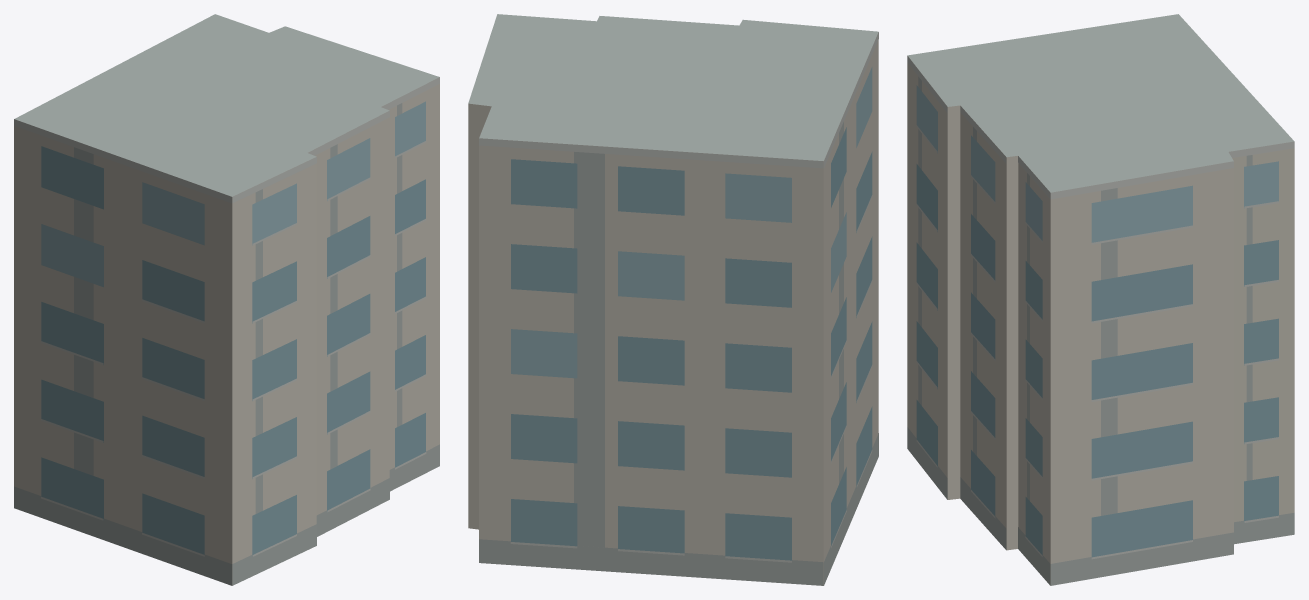
File: survey-upis-32852986.glb
3 views of the same model, side by side, from view 1: azimuth 30°, elevation 25°; view 2: azimuth 150°, elevation 25°; view 3: azimuth 270°, elevation 25° (orthographic). The views are drawn at different scales.
Visible parts, largest first — view 1: survey-upis-32852986.tmp; view 2: survey-upis-32852986.tmp; view 3: survey-upis-32852986.tmp.
Boxes of the visible parts, x1=… form: survey-upis-32852986.tmp: x1=14, y1=14, x2=439, y2=585; survey-upis-32852986.tmp: x1=468, y1=14, x2=878, y2=585; survey-upis-32852986.tmp: x1=907, y1=14, x2=1294, y2=585.
Bounding box in the file's own units: 13.85 × 14.2 × 12.69.
